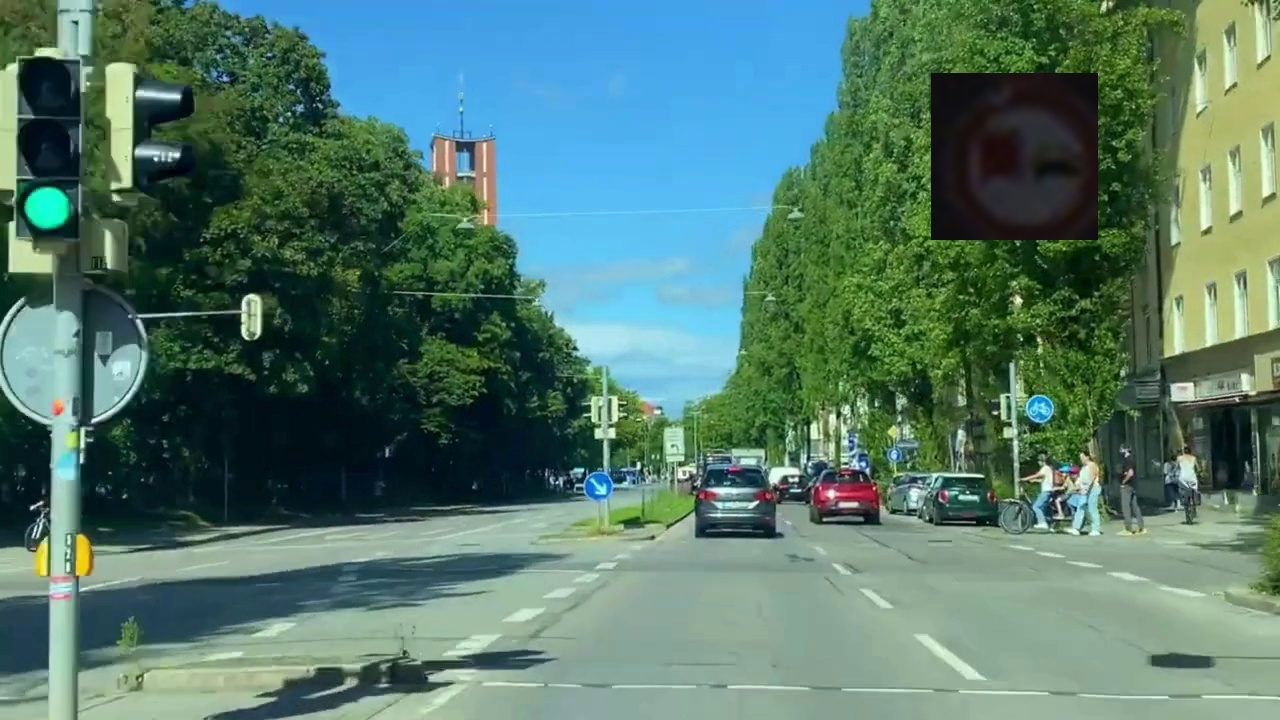No pass >3.5t: (931, 73, 1098, 240)
